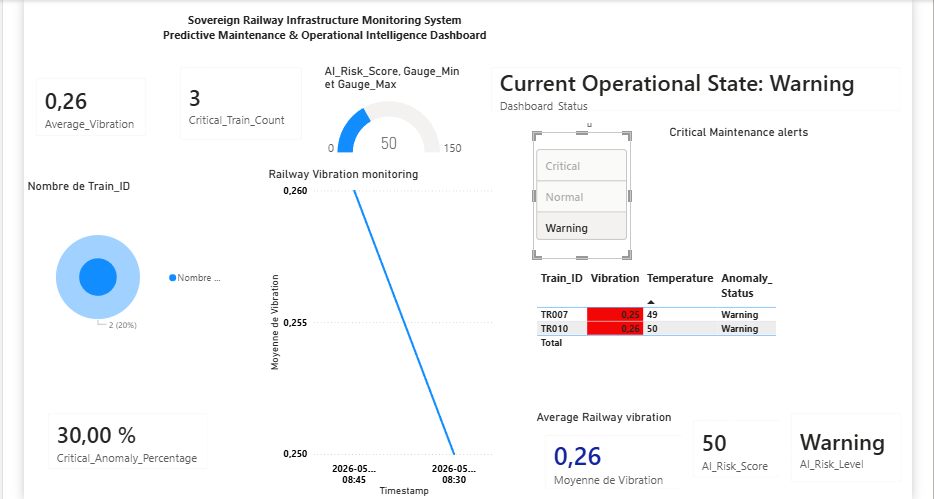

What the dashboard file says about the page in this screenshot:
{"tool":"powerbi","page":{"name":"Page 1","canvas":[1280,720],"ordinal":0},"visuals":[{"type":"lineChart","title":" Railway Vibration monitoring ","fields":{"Y":["Avg(railway_data.Vibration)"],"Category":["railway_data.Timestamp"]},"box":[393.7,240,339.5,480],"z":0},{"type":"cardVisual","title":"Critical Maintenance alerts","fields":{"Data":["CountNonNull(railway_data.Train_ID)"],"Rows":["railway_data.Anomaly_Status"]},"box":[924.9,180,237.1,204.9],"z":1000},{"type":"cardVisual","title":"Average Railway vibration","fields":{"Data":["Avg(railway_data.Vibration)"]},"box":[733.2,589.8,232.7,130.2],"z":2000},{"type":"pieChart","fields":{"Y":["CountNonNull(railway_data.Train_ID)"]},"box":[0,257.6,300,263.4],"z":3000},{"type":"textbox","box":[180,13.2,506.3,79],"z":4000},{"type":"tableEx","fields":{"Values":["railway_data.Train_ID","railway_data.Vibration","railway_data.Temperature","railway_data.Anomaly_Status"]},"box":[733.2,383.4,519.5,206.3],"z":5000},{"type":"cardVisual","fields":{"Rows":["railway_data.Anomaly_Status"]},"box":[733.2,190.2,140.5,182.9],"z":6000},{"type":"cardVisual","fields":{"Data":["railway_data.Critical_Train_Count"]},"box":[207.8,79,210.7,139],"z":7000},{"type":"cardVisual","fields":{"Data":["railway_data.Average_Vibration"]},"box":[0,95.1,193.2,118.5],"z":8000},{"type":"cardVisual","fields":{"Data":["railway_data.Critical_Anomaly_Percentage"]},"box":[17.6,578,264.9,115.6],"z":9000},{"type":"cardVisual","fields":{"Data":["railway_data.AI_Risk_Score"]},"box":[951.2,578,159.5,117.1],"z":10000},{"type":"cardVisual","fields":{"Data":["railway_data.AI_Risk_Level"]},"box":[1087.3,569.3,193.2,134.6],"z":11000},{"type":"gauge","fields":{"Y":["railway_data.AI_Risk_Score"],"MinValue":["railway_data.Gauge_Min"],"MaxValue":["railway_data.Gauge_Max"]},"box":[427.3,92.2,212.2,147.8],"z":12000},{"type":"cardVisual","fields":{"Data":["railway_data.Dashboard_Status"]},"box":[655.6,79,624.9,98],"z":13000}]}

Visuals, with their boxes on the page's 1280x720 design canvas (x1, y1, x2, y2). These are canvas units, not pixel positions in the 934x499 screenshot, which may show the page scaled, cropped or inside an application window:
" Railway Vibration monitoring " lineChart: bbox=[394, 240, 733, 720]
"Critical Maintenance alerts" cardVisual: bbox=[925, 180, 1162, 385]
"Average Railway vibration" cardVisual: bbox=[733, 590, 966, 720]
pieChart - CountNonNull(railway_data.Train_ID): bbox=[0, 258, 300, 521]
textbox: bbox=[180, 13, 686, 92]
tableEx - railway_data.Train_ID x railway_data.Vibration: bbox=[733, 383, 1253, 590]
cardVisual - railway_data.Anomaly_Status: bbox=[733, 190, 874, 373]
cardVisual - railway_data.Critical_Train_Count: bbox=[208, 79, 418, 218]
cardVisual - railway_data.Average_Vibration: bbox=[0, 95, 193, 214]
cardVisual - railway_data.Critical_Anomaly_Percentage: bbox=[18, 578, 282, 694]
cardVisual - railway_data.AI_Risk_Score: bbox=[951, 578, 1111, 695]
cardVisual - railway_data.AI_Risk_Level: bbox=[1087, 569, 1280, 704]
gauge - railway_data.AI_Risk_Score x railway_data.Gauge_Min: bbox=[427, 92, 640, 240]
cardVisual - railway_data.Dashboard_Status: bbox=[656, 79, 1280, 177]
